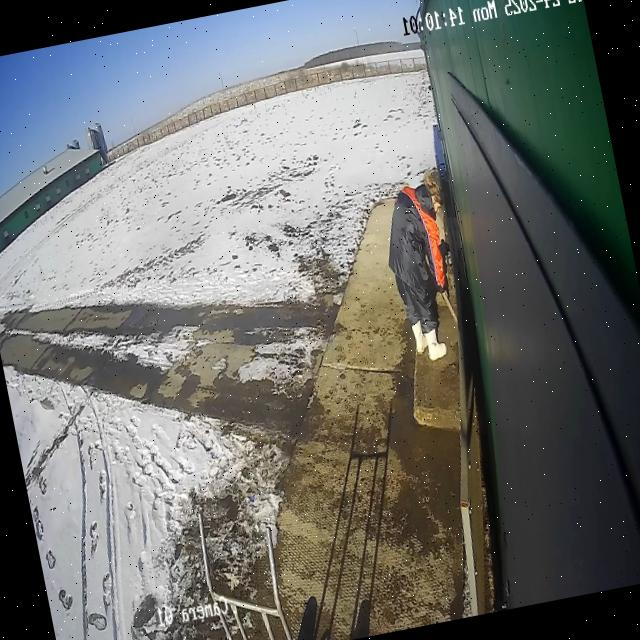Red uniform: (371, 165, 476, 368)
